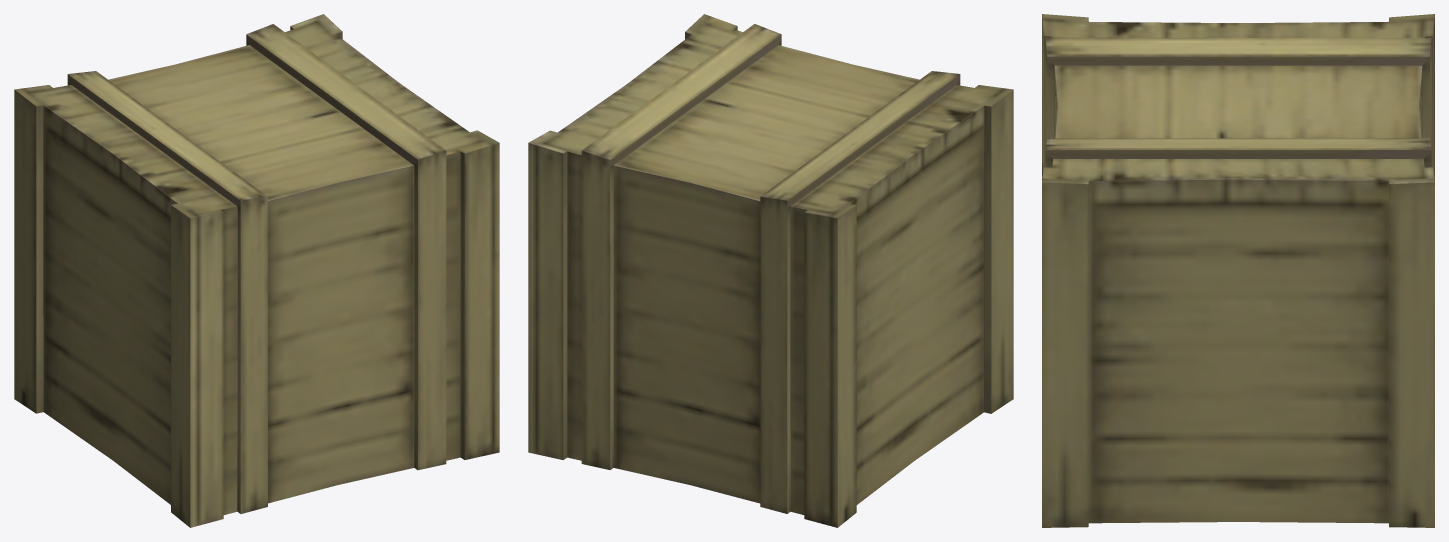
File: crate_01.fbx
3 views of the same model, side by side, from view 1: azimuth 30°, elevation 25°; view 2: azimuth 150°, elevation 25°; view 3: azimuth 270°, elevation 25° (orthographic). The views are drawn at different scales.
Visible parts, largest first — view 1: GEOM0_LOD0; view 2: GEOM0_LOD0; view 3: GEOM0_LOD0.
Part boxes in pixels (x1,y1,x2,y2): GEOM0_LOD0: (14,14,499,527); GEOM0_LOD0: (528,14,1013,527); GEOM0_LOD0: (1042,14,1434,527).
Size of what is drawn, in the model's own units: 115 by 111 by 113.
